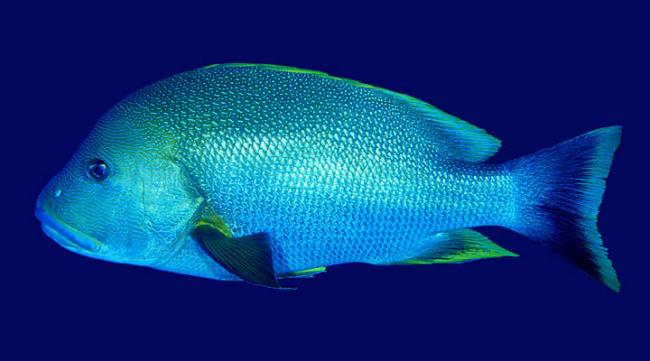fish: (35, 62, 623, 293)
